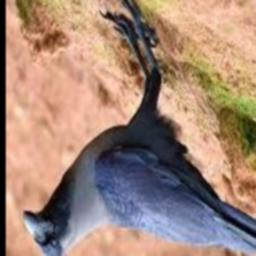Crow: (24, 0, 256, 256)
